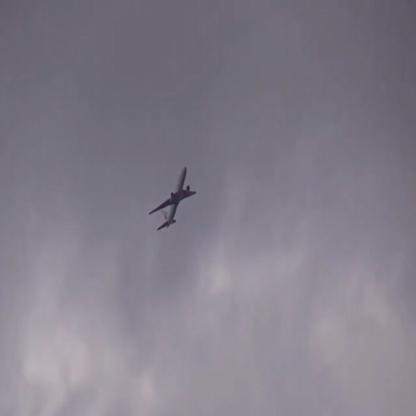CIV_Plane: (147, 168, 196, 232)
